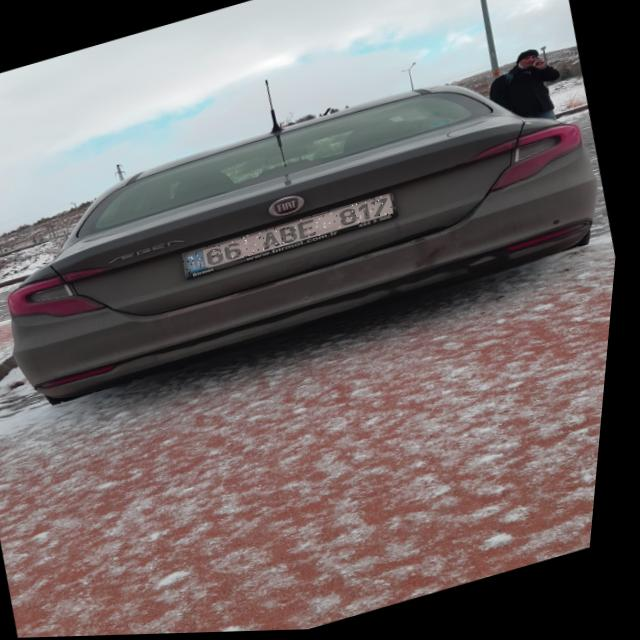license_plate: (185, 194, 399, 275)
